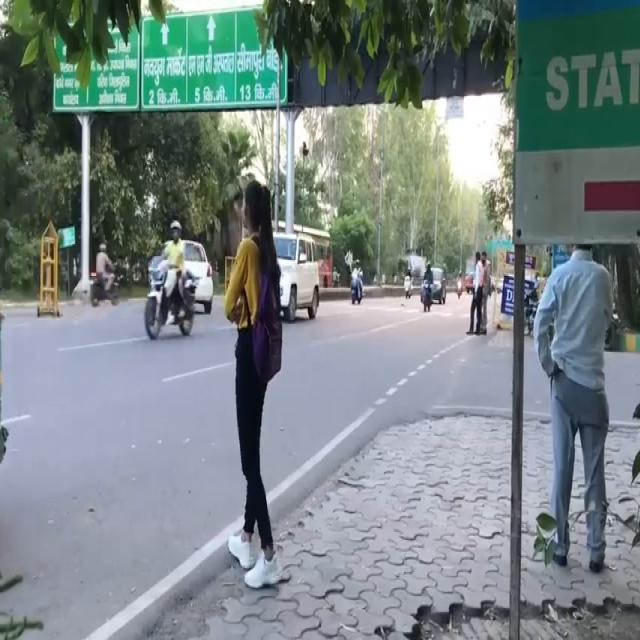MOTORCYCLE: (142, 264, 196, 342), (88, 266, 120, 306), (351, 266, 363, 306), (423, 285, 432, 310)
